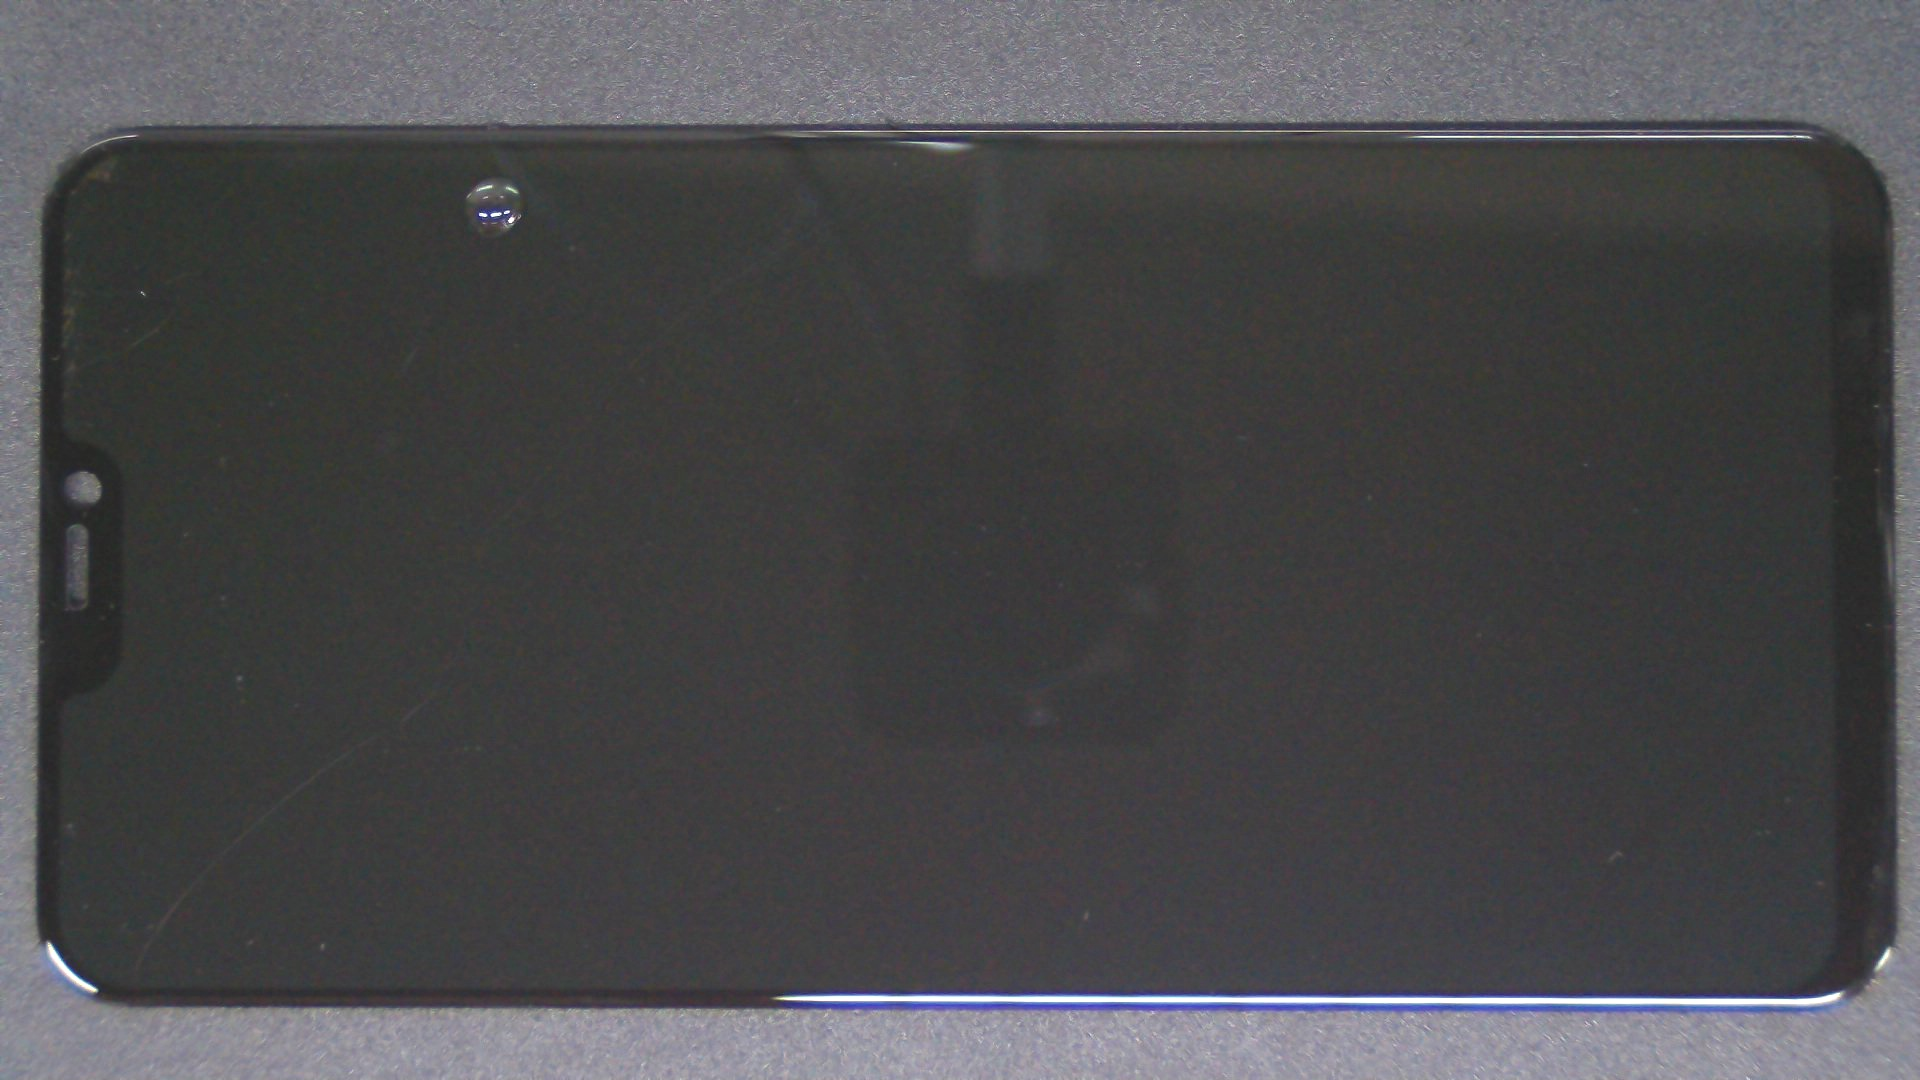oil: (247, 88, 736, 266)
